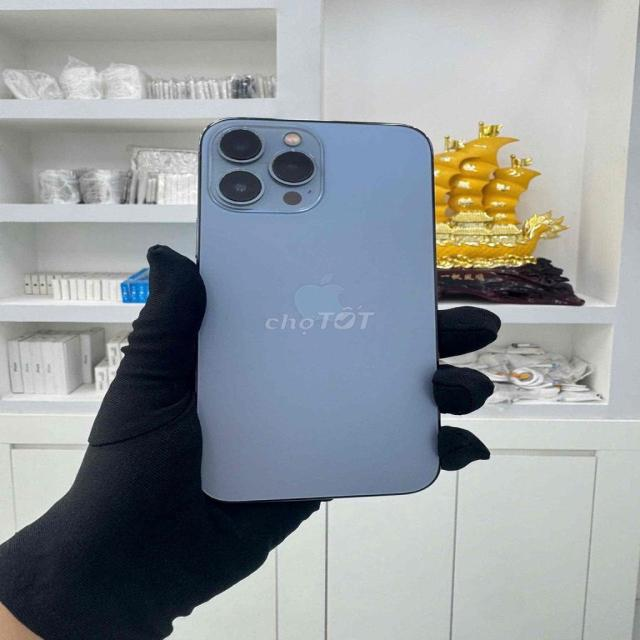gen_12_13: (182, 108, 458, 503)
